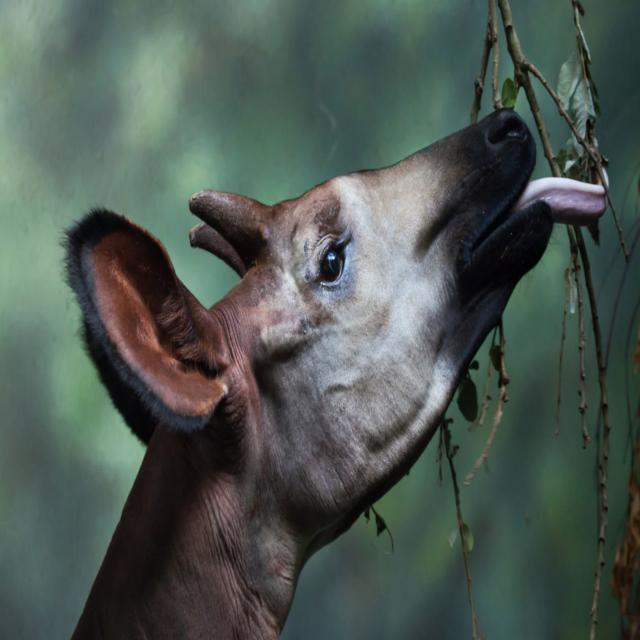Okapi: (59, 81, 611, 640)
